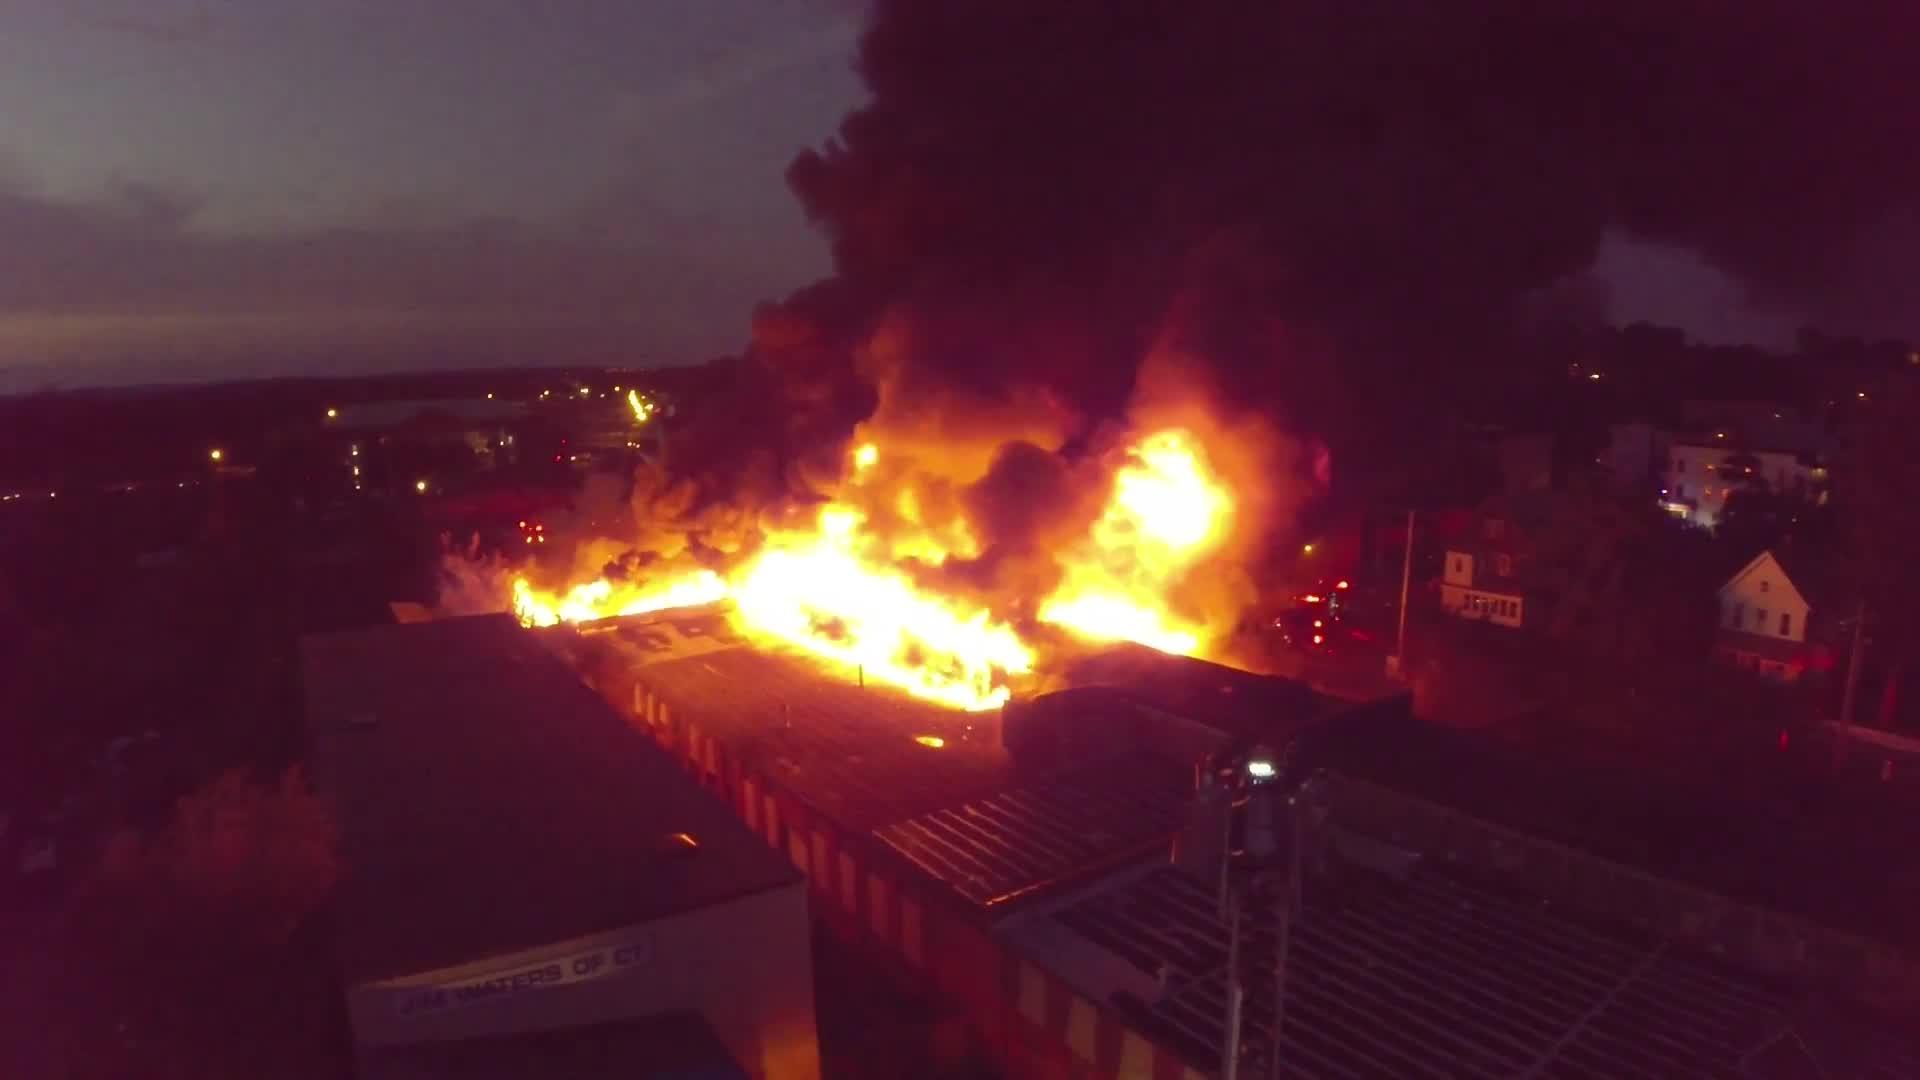fire: (735, 542, 1023, 731), (1106, 448, 1211, 655)
smoke: (898, 1, 1585, 345), (1602, 11, 1874, 236), (749, 332, 841, 458)
